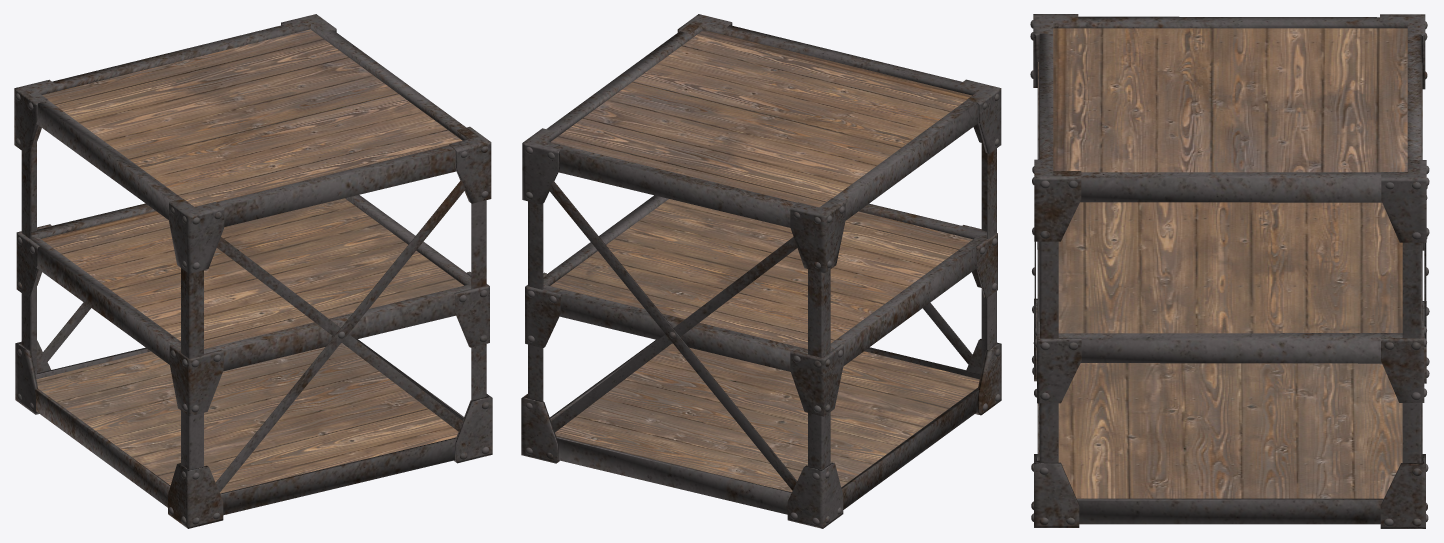
Rendered from industrial-shelf-ready.glb.
The picture shows the model from 3 angles, left to right: view 1: azimuth 30°, elevation 25°; view 2: azimuth 150°, elevation 25°; view 3: azimuth 270°, elevation 25°; orthographic projection. The views are drawn at different scales.
Visible parts, largest first — view 1: pCube41; view 2: pCube41; view 3: pCube41.
Part boxes in pixels (<box>): pCube41: <box>14,14,492,528</box>; pCube41: <box>521,14,1001,528</box>; pCube41: <box>1030,14,1429,528</box>.
Size of the model in its own units: 1.05 by 1.01 by 1.05.
Materials: 1 (1 with a texture image).
